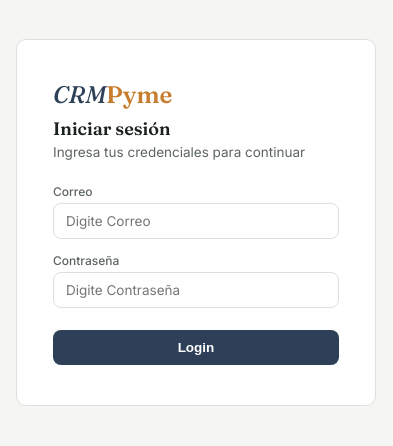
LoginPage — login fallido › CP-09: cuenta bloqueada (423) muestra el tiempo de espera
Type "admin@crm.local" into the field labelled "Correo" at (196, 220), box [53,202,339,238]
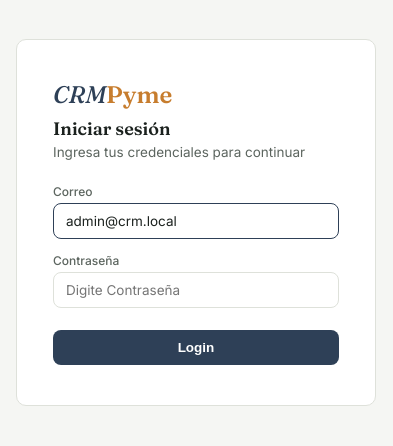
Type "claveMala" into the password field labelled "Contraseña" at (196, 290), box [53,272,339,308]
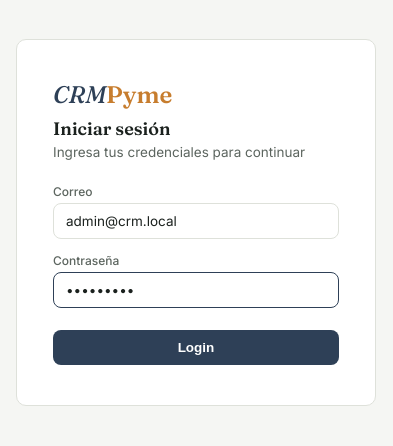
Click the button "Login" at (196, 347), box [53,330,339,364]
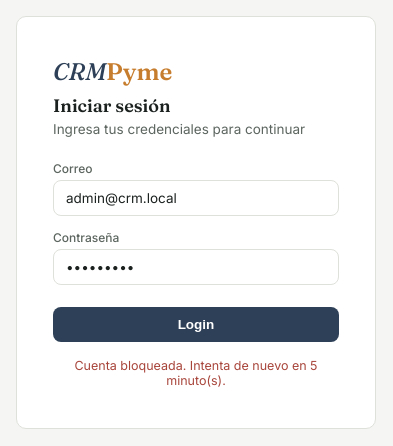
Check: the text "Cuenta bloqueada. Intenta de nuevo en 5 minuto(s)." is shown, box [74,358,318,388]
